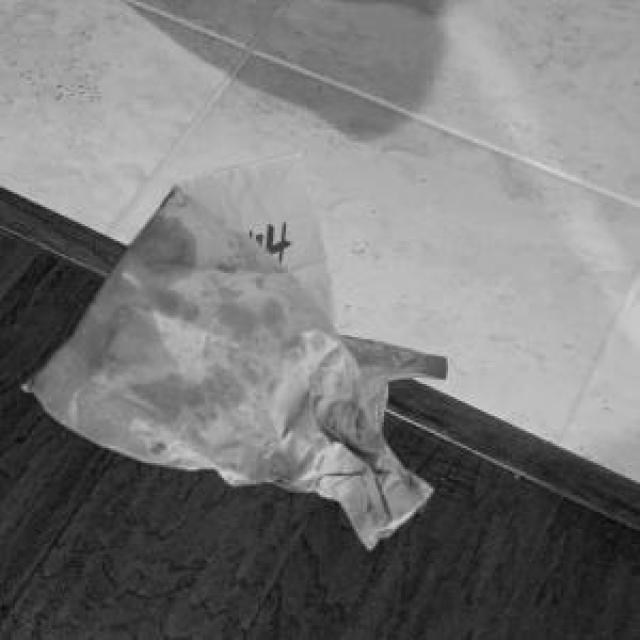paper: (19, 184, 429, 546), (164, 149, 337, 320)
